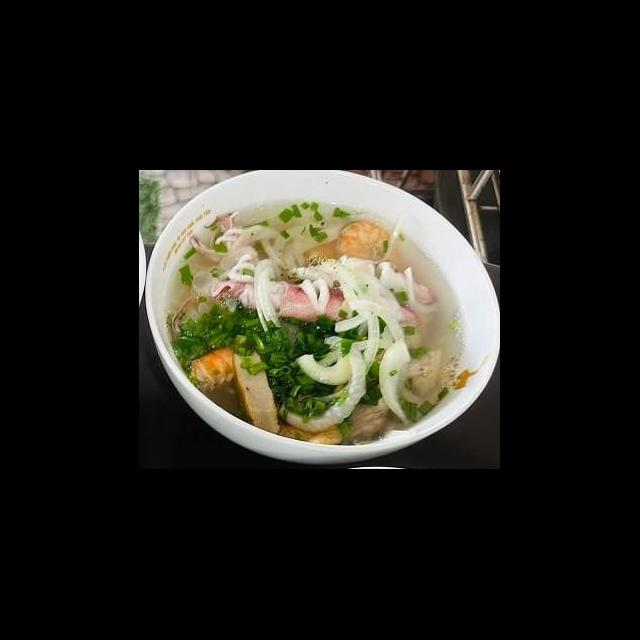bun: (226, 248, 286, 334)
muc: (206, 253, 424, 329), (286, 250, 440, 316)
